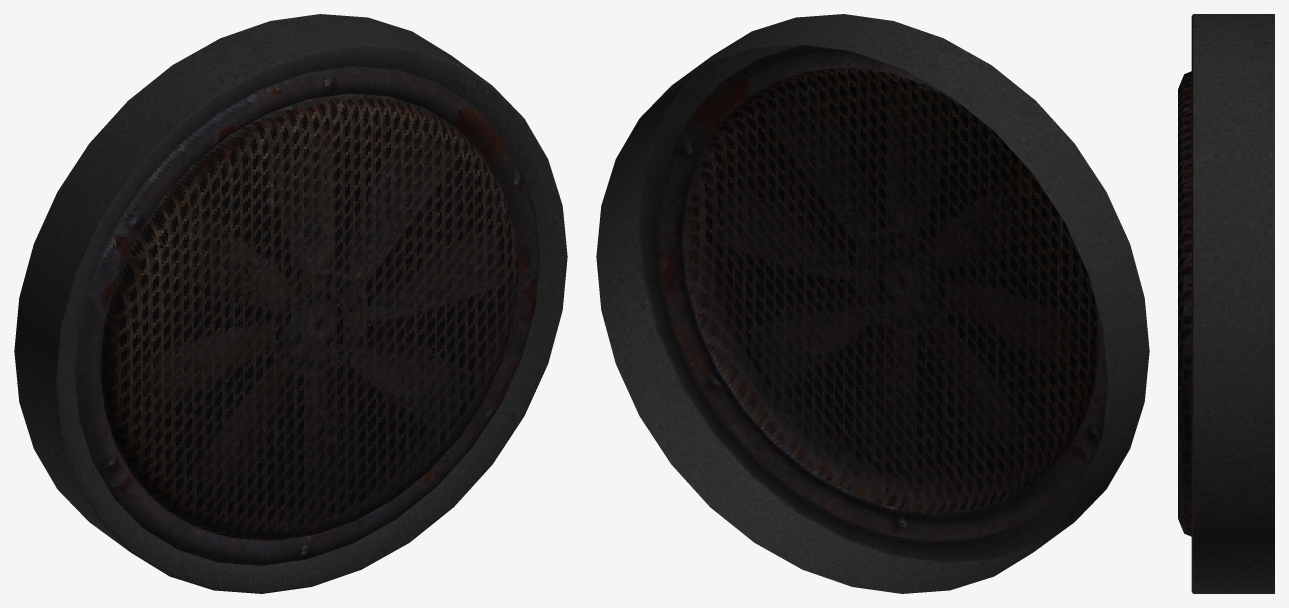
The model's file is vent_4.glb.
3 views of the same model, side by side, from view 1: azimuth 30°, elevation 25°; view 2: azimuth 150°, elevation 25°; view 3: azimuth 270°, elevation 25° (orthographic).
Parts seen in each view (by area): view 1: vent_4; view 2: vent_4; view 3: vent_4.
Boxes of the visible parts, left/top/right/bottom form: vent_4: left=14, top=14, right=567, bottom=593; vent_4: left=596, top=14, right=1149, bottom=593; vent_4: left=1178, top=14, right=1274, bottom=593.
Size of the model in its own units: 1.1 by 1.1 by 0.1838.
Materials: 2 (2 with a texture image).
